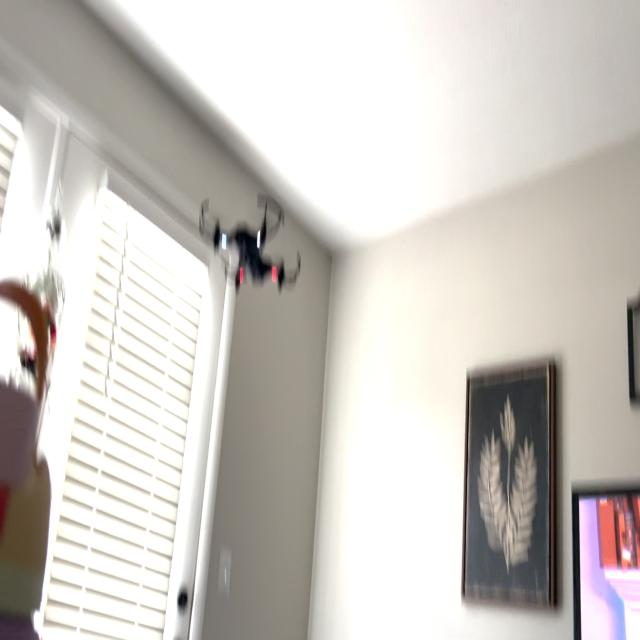drone: (191, 170, 310, 316)
